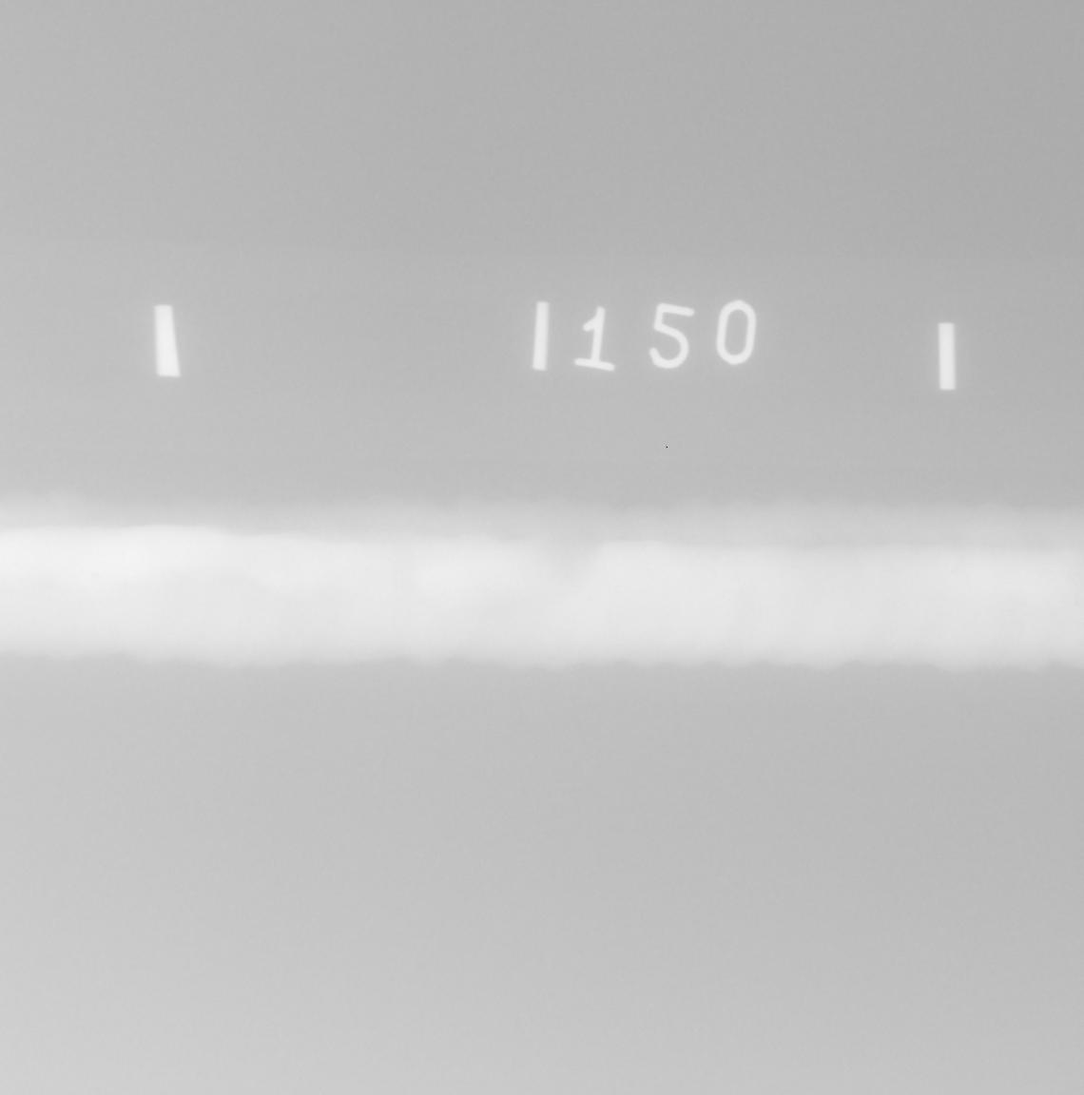Pore/Porosity: (92, 572, 98, 581), (732, 573, 739, 580), (1072, 601, 1079, 606), (951, 568, 957, 573)
